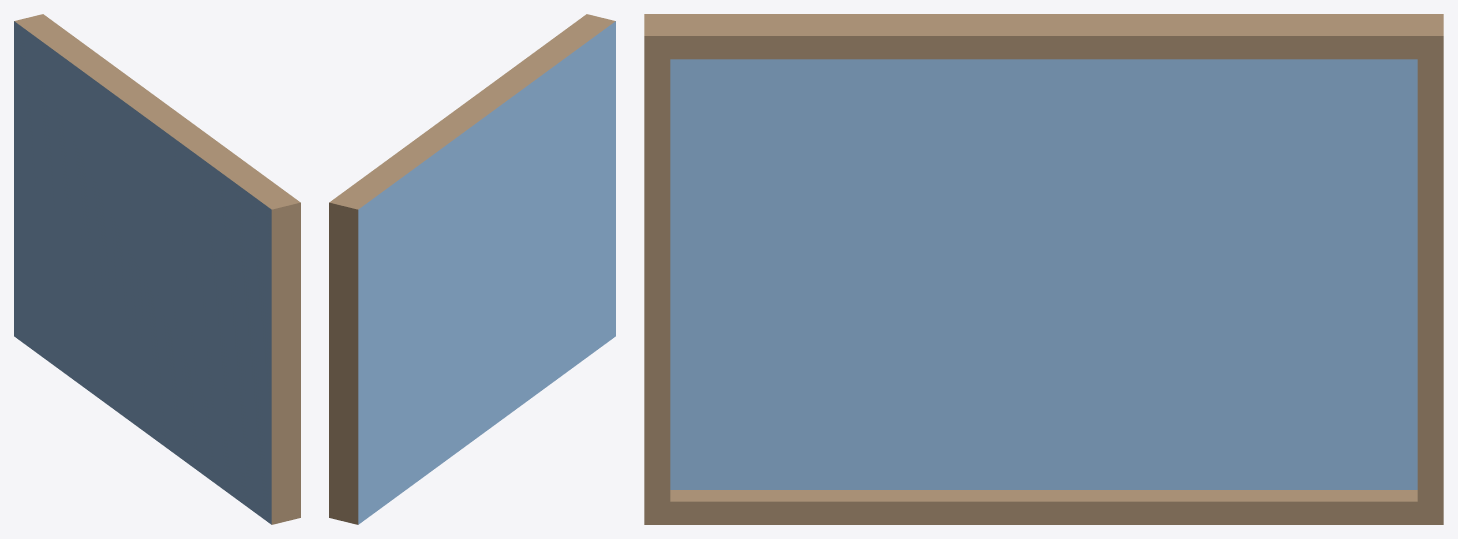
Rendered from ventana.fbx.
The picture shows the model from 3 angles, left to right: view 1: azimuth 30°, elevation 25°; view 2: azimuth 150°, elevation 25°; view 3: azimuth 270°, elevation 25°; orthographic projection. The views are drawn at different scales.
Parts seen in each view (by area): view 1: Cube; view 2: Cube; view 3: Cube.
Part boxes in pixels (x1,y1,x2,y2): Cube: (14, 14, 300, 524); Cube: (329, 14, 615, 524); Cube: (644, 14, 1443, 524).
Bounding box in the file's own units: 64.38 × 667 × 988.
